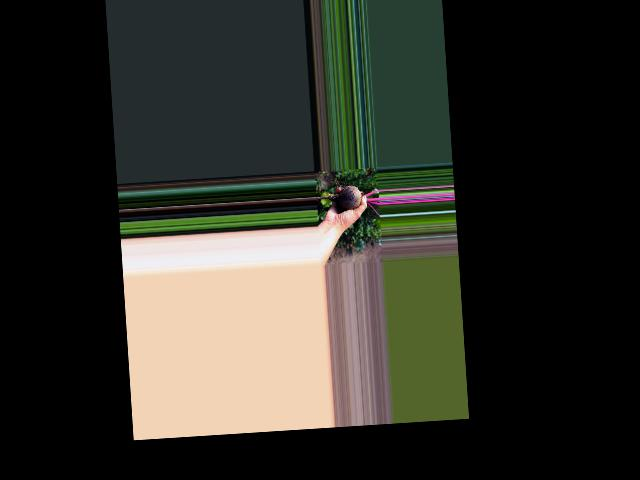beet: (314, 174, 380, 221)
